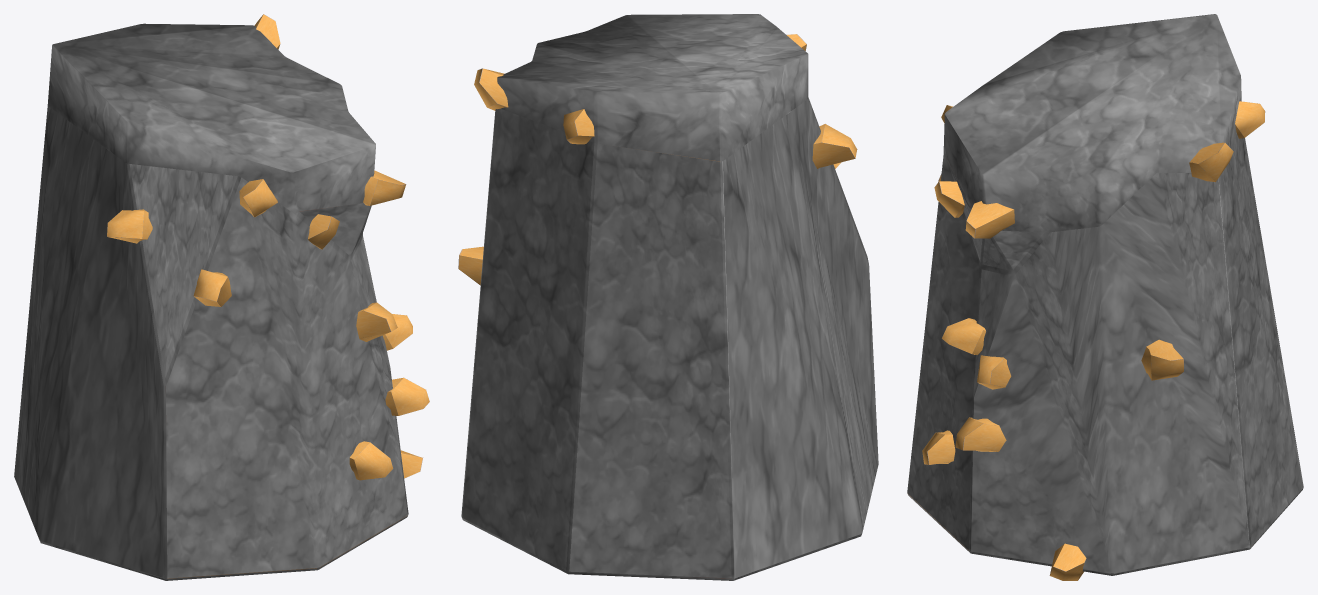
File: SmallGoldOre.fbx
3 views of the same model, side by side, from view 1: azimuth 30°, elevation 25°; view 2: azimuth 150°, elevation 25°; view 3: azimuth 270°, elevation 25° (orthographic). The views are drawn at different scales.
Parts seen in each view (by area): view 1: SmallGoldOre; view 2: SmallGoldOre; view 3: SmallGoldOre.
Part boxes in pixels (<box>): SmallGoldOre: <box>14,14,429,580</box>; SmallGoldOre: <box>458,14,878,580</box>; SmallGoldOre: <box>907,14,1303,580</box>.
Bounding box in the file's own units: 119 × 141 × 115.
